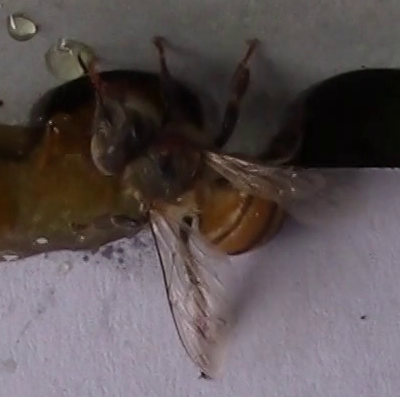Varroa destructor: (151, 132, 188, 155)
